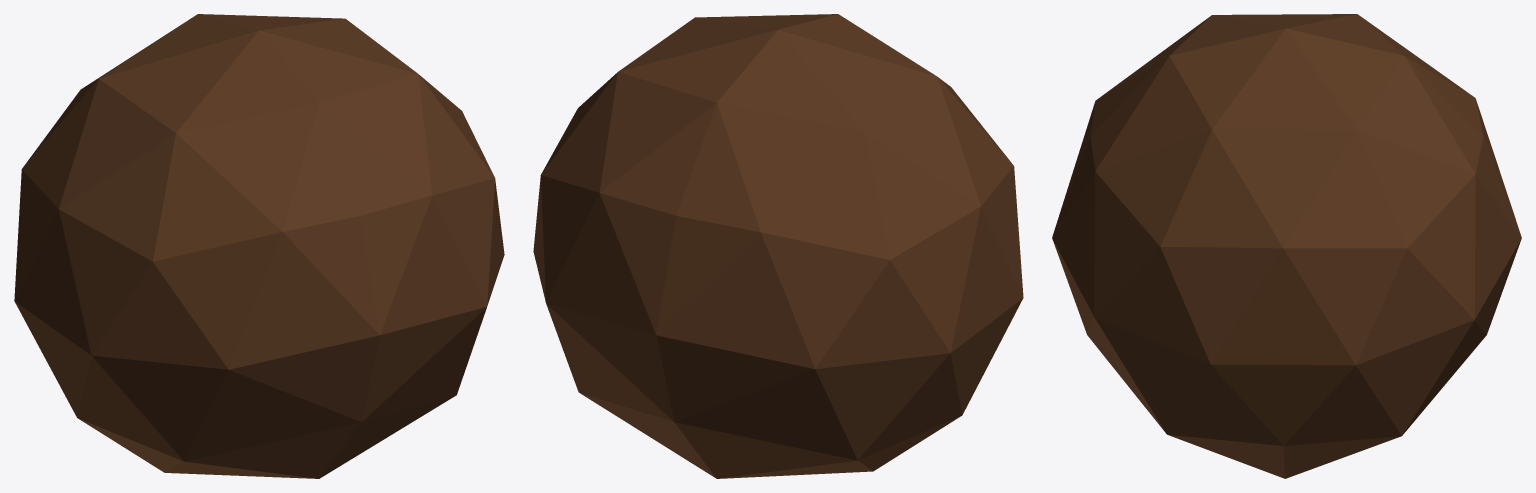
The model's file is cc0-coconut-lod0.glb.
3 renders of one model, left to right at view 1: azimuth 30°, elevation 25°; view 2: azimuth 150°, elevation 25°; view 3: azimuth 270°, elevation 25°, orthographic. The views are drawn at different scales.
Parts seen in each view (by area): view 1: part_0; view 2: part_0; view 3: part_0.
Part boxes in pixels (x1,y1,x2,y2): part_0: (14,14,504,478); part_0: (533,14,1023,478); part_0: (1052,14,1521,478).
Bounding box in the file's own units: 0.7777 × 0.7769 × 0.7834.
